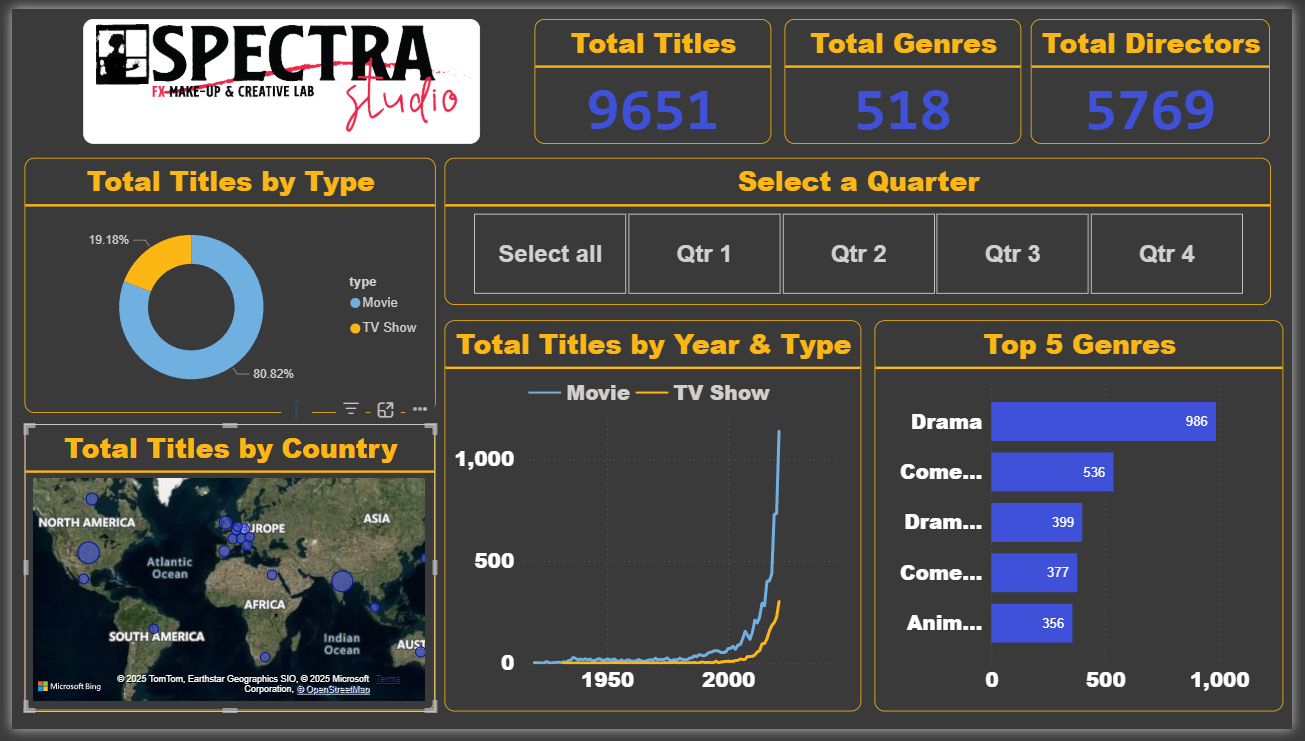

What the dashboard file says about the page in this screenshot:
{"tool":"powerbi","page":{"name":"Dashboard","canvas":[1280,720],"ordinal":0},"visuals":[{"type":"card","title":"Total Titles","fields":{"Values":["Count(6 2-Spectra_titles.title)"]},"box":[522.6,9.9,236.7,124.7],"z":0},{"type":"card","title":"Total Genres","fields":{"Values":["Count(6 2-Spectra_titles.listed_in)"]},"box":[772,9.9,236.7,124.7],"z":1000},{"type":"card","title":"Total Directors","fields":{"Values":["Count(6 2-Spectra_titles.director)"]},"box":[1018.6,9.9,239.5,124.7],"z":2000},{"type":"textbox","box":[70.9,9.9,396.9,124.7],"z":3000},{"type":"image","box":[69.4,7.1,396.9,124.7],"z":4000},{"type":"map","title":"Total Titles by Country","fields":{"Category":["6 2-Spectra_titles.country"],"Size":["CountNonNull(6 2-Spectra_titles.show_id)"]},"box":[12.9,415.5,410.3,286.5],"z":5000},{"type":"lineChart","title":"Total Titles by Year & Type","fields":{"Y":["CountNonNull(6 2-Spectra_titles.show_id)"],"Category":["6 2-Spectra_titles.release_year"],"Series":["6 2-Spectra_titles.type"]},"box":[432.3,311,416.8,391],"z":6000},{"type":"barChart","title":"Top 5 Genres","fields":{"Y":["CountNonNull(6 2-Spectra_titles.show_id)"],"Category":["6 2-Spectra_titles.listed_in"]},"box":[861.9,311,409,391],"z":7000},{"type":"donutChart","title":"Total Titles by Type","fields":{"Category":["6 2-Spectra_titles.type"],"Y":["CountNonNull(6 2-Spectra_titles.show_id)"]},"box":[12.8,148.8,411,255.1],"z":8000},{"type":"slicer","title":"Select a Quarter","fields":{"Values":["6 2-Spectra_titles.date_added.Variation.Date Hierarchy.Quarter"]},"box":[432.3,148.8,826.3,147.4],"z":9000}]}

Visuals, with their boxes in screenshot pixels (x1, y1, x2, y2), scaled from the page's 1280x720 canvas onto the 1305x741 screenshot:
"Total Titles" card: (left=533, top=10, right=774, bottom=139)
"Total Genres" card: (left=787, top=10, right=1028, bottom=139)
"Total Directors" card: (left=1038, top=10, right=1283, bottom=139)
textbox: (left=72, top=10, right=477, bottom=139)
image: (left=71, top=7, right=475, bottom=136)
"Total Titles by Country" map: (left=13, top=428, right=431, bottom=722)
"Total Titles by Year & Type" lineChart: (left=441, top=320, right=866, bottom=722)
"Top 5 Genres" barChart: (left=879, top=320, right=1296, bottom=722)
"Total Titles by Type" donutChart: (left=13, top=153, right=432, bottom=416)
"Select a Quarter" slicer: (left=441, top=153, right=1283, bottom=305)
